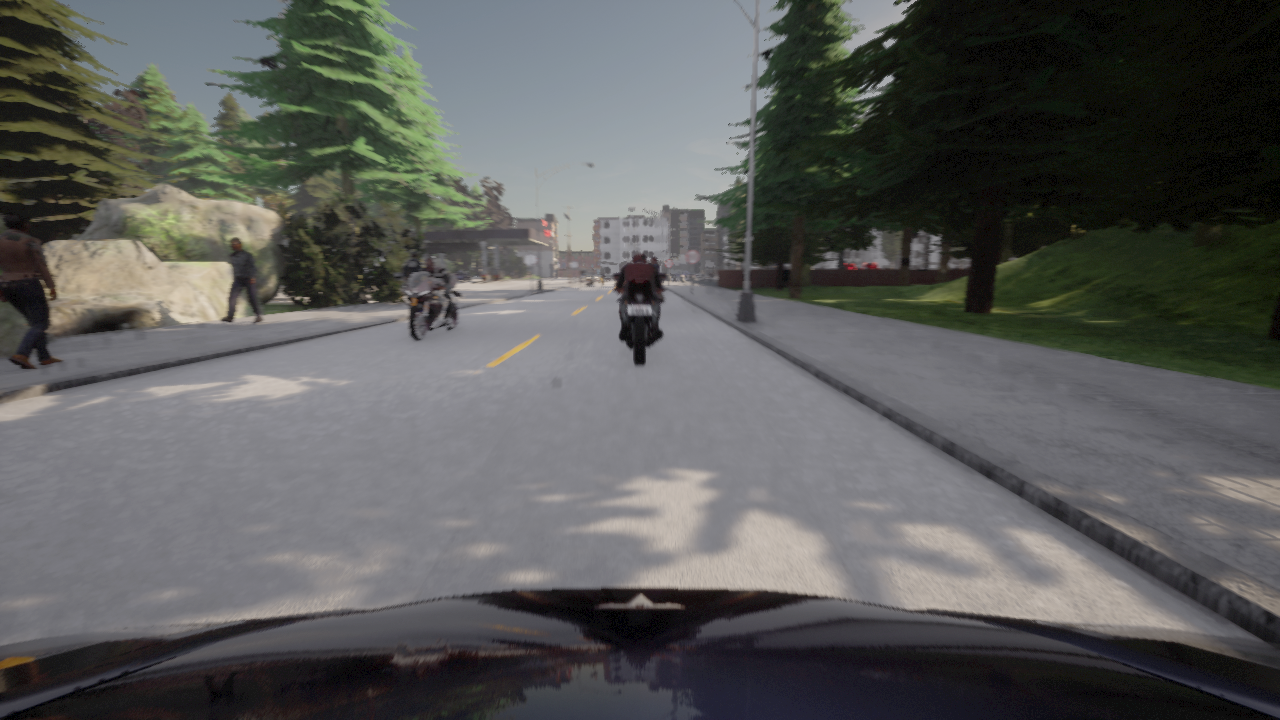cyclist: (0, 588, 1279, 719), (613, 274, 666, 365), (395, 272, 463, 341), (452, 270, 470, 281), (585, 273, 596, 288), (673, 271, 689, 275), (598, 275, 604, 284), (581, 275, 584, 288), (688, 273, 698, 275)
pedestrian: (0, 212, 64, 369), (221, 238, 262, 323), (404, 251, 422, 282), (651, 258, 663, 302)
